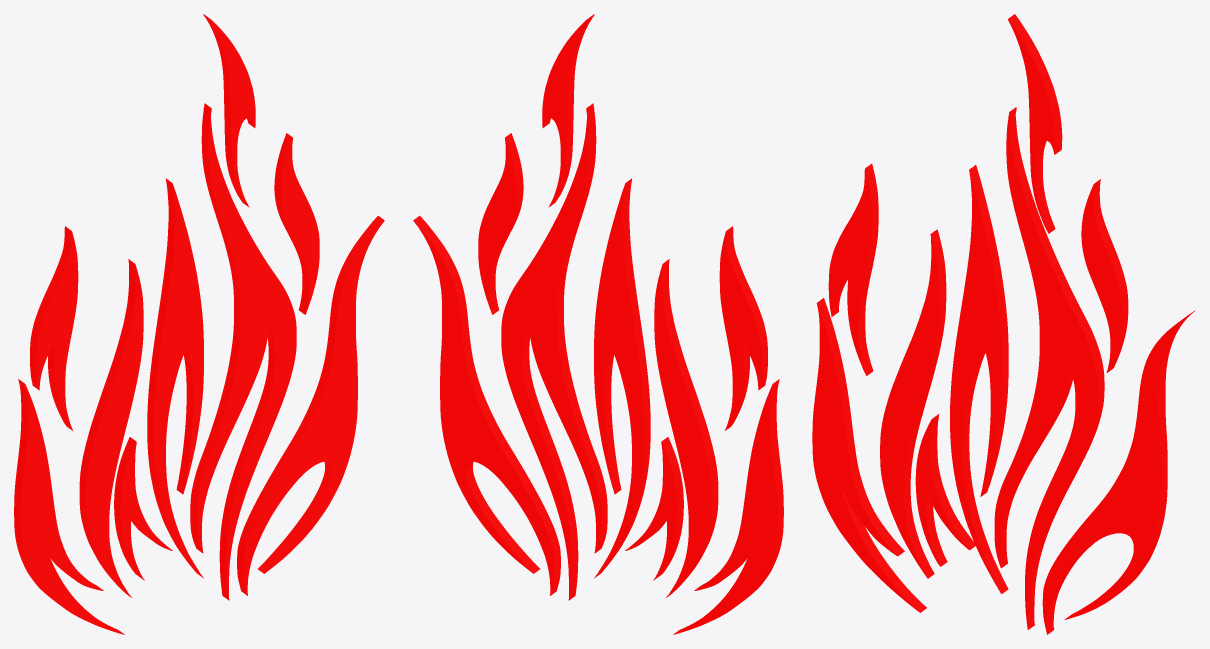
Rendered from fire.glb.
3 views of the same model, side by side, from view 1: azimuth 30°, elevation 25°; view 2: azimuth 150°, elevation 25°; view 3: azimuth 330°, elevation 25° (orthographic). The views are drawn at different scales.
Size of the model in its own units: 0.6369 by 0.9954 by 0.02.
